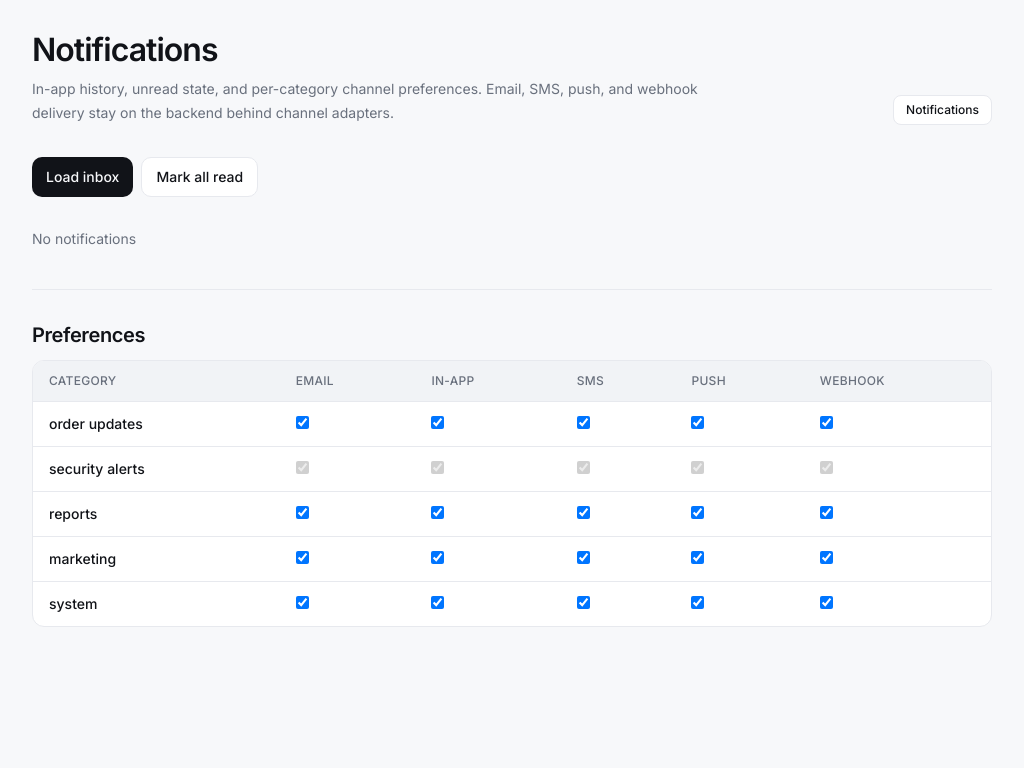
Scenario: NotificationsPage › loads inbox and preferences
Click the button "Load inbox": (83,177) [32,157,133,197]
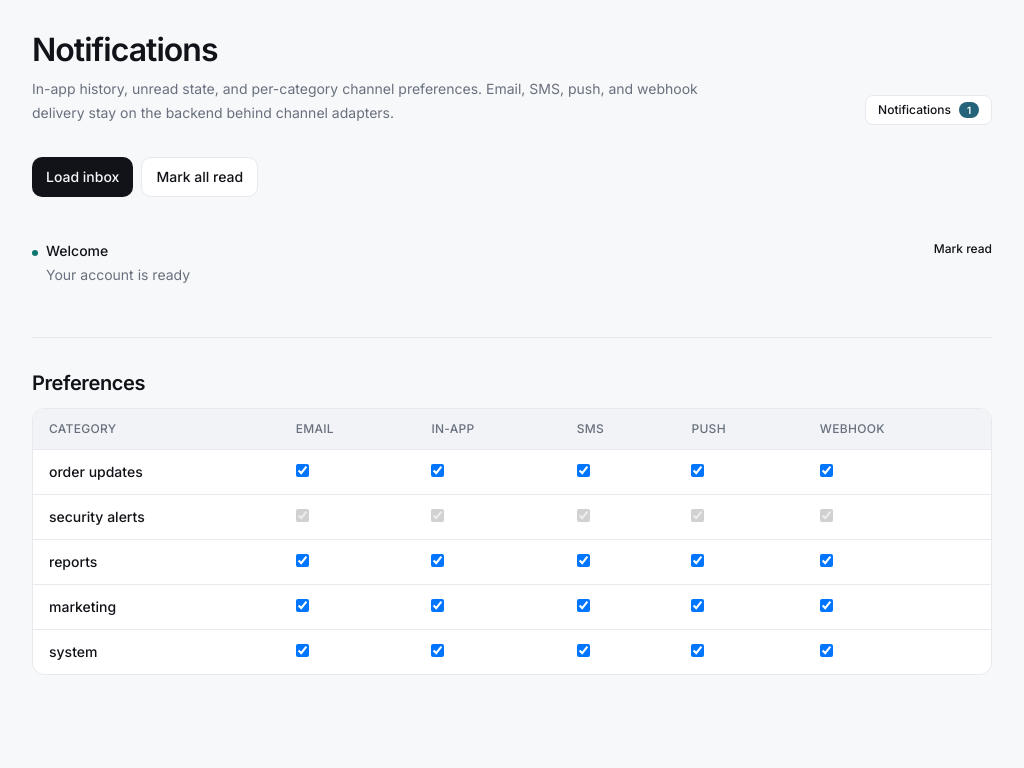
Check: the checkbox named "marketing email" is checked, box [296,599,309,612]
Check: the text "Welcome" is shown, box [46,241,108,261]
